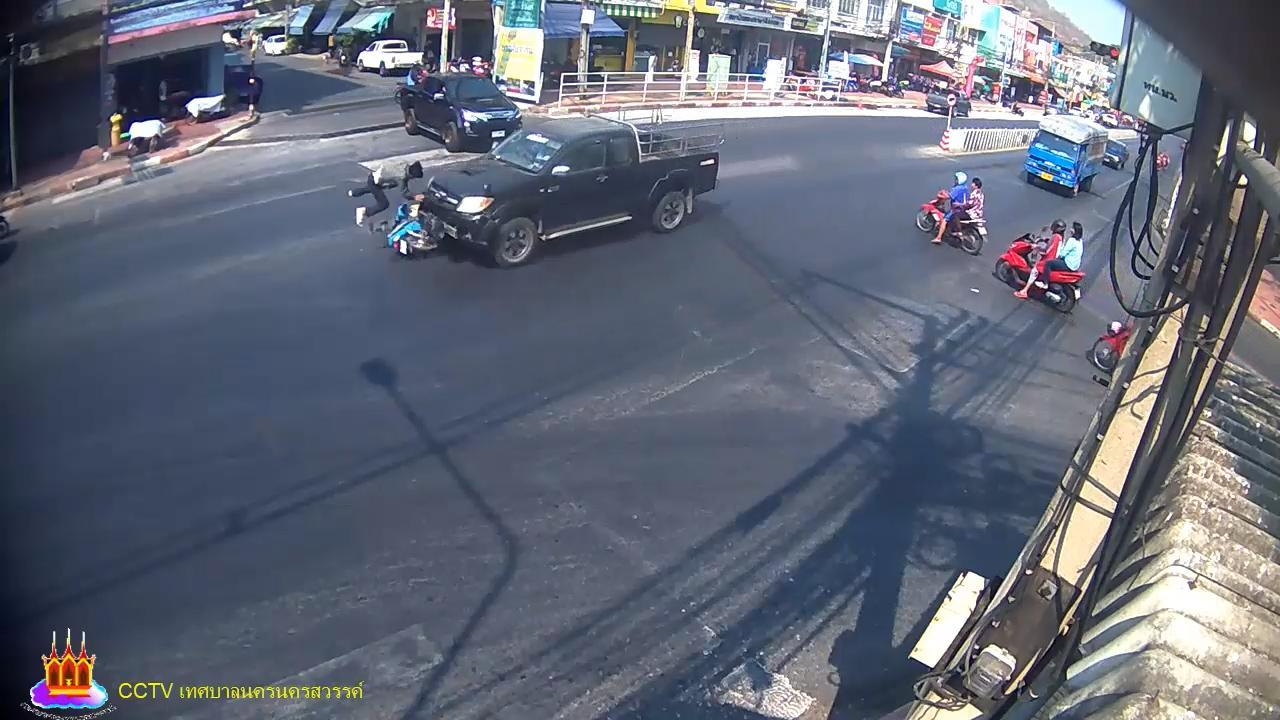accident: (350, 158, 426, 226)
